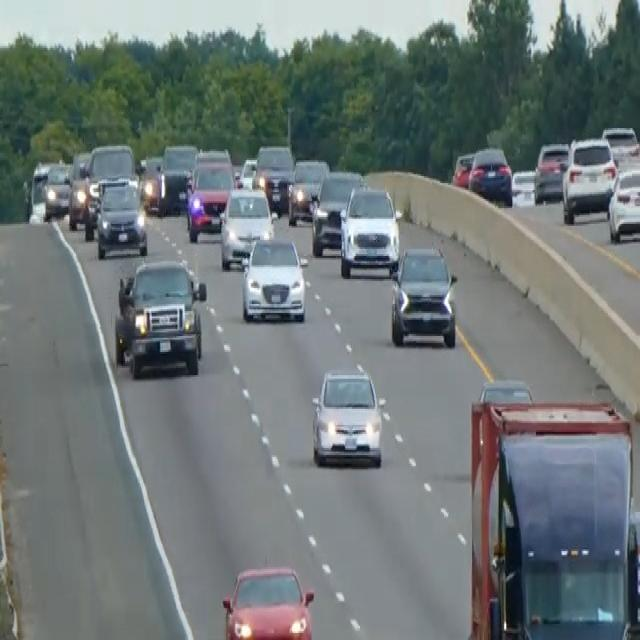car: (310, 366, 383, 468), (389, 244, 458, 346), (221, 564, 315, 638), (240, 234, 308, 324), (339, 183, 401, 277), (561, 135, 617, 222), (218, 183, 274, 269), (82, 142, 136, 231), (310, 167, 363, 256), (95, 174, 148, 258), (184, 153, 234, 240), (252, 142, 294, 214), (286, 156, 329, 226), (158, 142, 197, 214), (467, 144, 513, 204), (607, 165, 639, 242), (533, 140, 569, 202), (24, 158, 54, 222), (67, 150, 91, 228), (601, 123, 639, 165), (137, 153, 163, 213), (478, 377, 533, 405), (43, 162, 70, 218), (451, 150, 474, 188), (236, 156, 257, 188)
jeep: (113, 256, 207, 379)
lorry: (465, 382, 639, 638)
